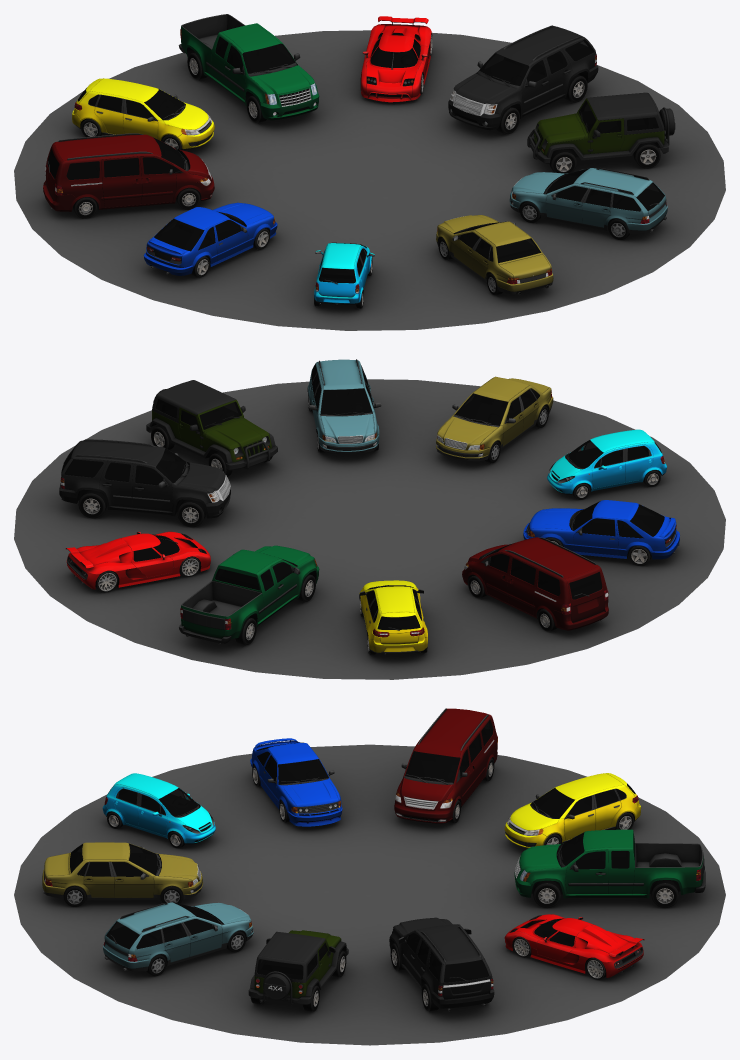
3 renders of one model, top to bottom at view 1: azimuth 30°, elevation 25°; view 2: azimuth 150°, elevation 25°; view 3: azimuth 270°, elevation 25°, orthographic.
Visible parts, largest first — view 1: Cylinder001, minivan body, SUV Body, Pickup Body, Wagon Body, Offroad Body, Hatchback Body, Coupe Body, Sedan Body, Sport body, Compact Body, Wheel_G001 (+1 smaller); view 2: Cylinder001, SUV Body, minivan body, Pickup Body, Offroad Body, Coupe Body, Sedan Body, Wagon Body, Sport body, Compact Body, Hatchback Body, Wheel_E003 (+1 smaller); view 3: Cylinder001, Pickup Body, minivan body, Sedan Body, Wagon Body, SUV Body, Hatchback Body, Coupe Body, Offroad Body, Sport body, Compact Body, Wheel_E001 (+1 smaller).
Boxes of the visible parts, x1,y1,x2,y2 form: Cylinder001: [14, 30, 725, 330]; minivan body: [43, 133, 214, 211]; SUV Body: [448, 25, 598, 130]; Pickup Body: [178, 14, 319, 120]; Wagon Body: [509, 168, 667, 234]; Offroad Body: [527, 92, 675, 163]; Hatchback Body: [72, 78, 214, 149]; Coupe Body: [143, 202, 277, 275]; Sedan Body: [436, 215, 553, 295]; Sport body: [361, 16, 431, 102]; Compact Body: [314, 242, 374, 305]; Wheel_G001: [633, 142, 660, 168]; Cylinder001: [14, 379, 725, 679]; SUV Body: [59, 439, 230, 518]; minivan body: [462, 537, 608, 630]; Pickup Body: [179, 545, 319, 644]; Offroad Body: [146, 380, 277, 470]; Coupe Body: [523, 500, 679, 559]; Sedan Body: [436, 376, 553, 461]; Wagon Body: [307, 359, 381, 453]; Sport body: [65, 531, 210, 589]; Compact Body: [547, 429, 666, 494]; Hatchback Body: [359, 580, 427, 655]; Wheel_E003: [78, 490, 106, 518]; Cylinder001: [14, 744, 725, 1045]; Pickup Body: [514, 829, 705, 898]; minivan body: [394, 708, 497, 823]; Sedan Body: [42, 842, 203, 900]; Wagon Body: [103, 902, 253, 971]; SUV Body: [389, 917, 494, 1011]; Hatchback Body: [504, 773, 641, 848]; Coupe Body: [250, 738, 342, 826]; Offroad Body: [248, 930, 348, 1005]; Sport body: [504, 914, 644, 977]; Compact Body: [102, 773, 215, 844]; Wheel_E001: [651, 880, 678, 908].
Size of the model in its own units: 19.27 by 1.76 by 19.27.
Materials: 41 (31 with a texture image).
